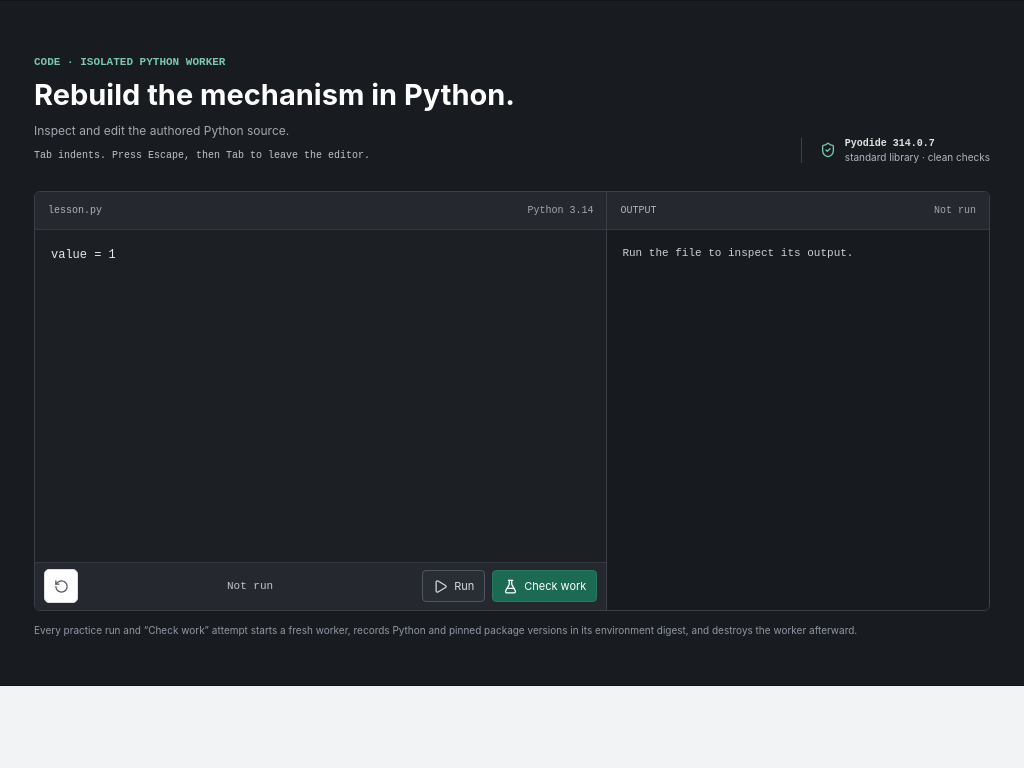
Test: PythonCodeLab source result ownership › uses authored check details to direct a failed-check retry
Click the button "Check work".
click(545, 586)  # box left=492, top=570, right=597, bottom=602
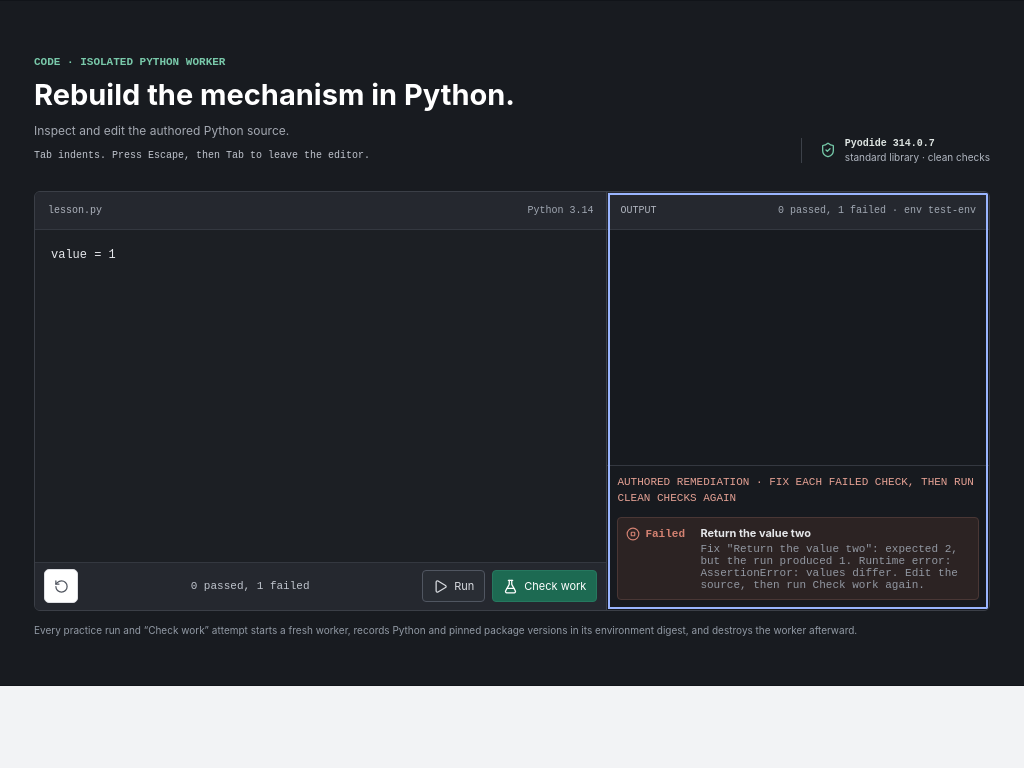
Result: the text "Fix \"Return the value two\": expected 2, but the run produced 1. Runtime error: AssertionError: values differ. Edit the s" is shown at left=700, top=543, right=958, bottom=591
